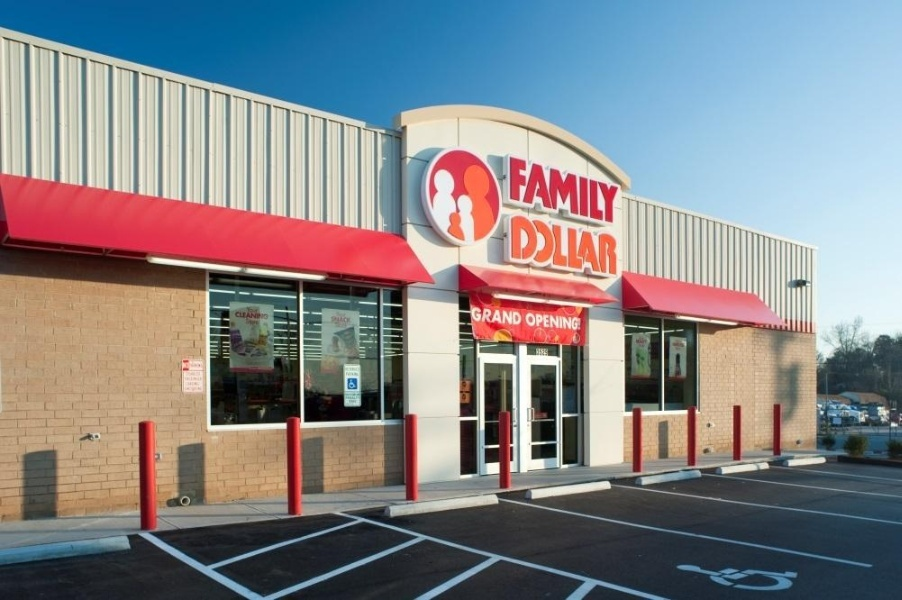text: (513, 155, 528, 224), (529, 155, 544, 224), (545, 155, 560, 224), (561, 155, 576, 224), (577, 155, 592, 224), (593, 155, 608, 224), (513, 216, 528, 274), (529, 216, 544, 274), (545, 216, 560, 274), (561, 216, 576, 274), (577, 216, 592, 274), (593, 216, 608, 274), (609, 155, 619, 224), (609, 216, 618, 274), (481, 308, 496, 326), (497, 308, 512, 326), (529, 313, 544, 330), (545, 313, 560, 330), (561, 313, 576, 330), (513, 308, 523, 326), (193, 371, 201, 391), (673, 338, 686, 349), (185, 371, 192, 391), (510, 155, 512, 224), (241, 311, 256, 320), (473, 308, 480, 326), (353, 365, 363, 377), (257, 311, 269, 320), (337, 317, 352, 324), (641, 336, 651, 346), (353, 393, 361, 404), (346, 365, 352, 377), (577, 313, 581, 330), (346, 393, 352, 404), (635, 336, 640, 346), (537, 349, 544, 355), (236, 311, 240, 320), (331, 317, 336, 324), (526, 313, 528, 330), (545, 349, 547, 355), (671, 338, 672, 349)
